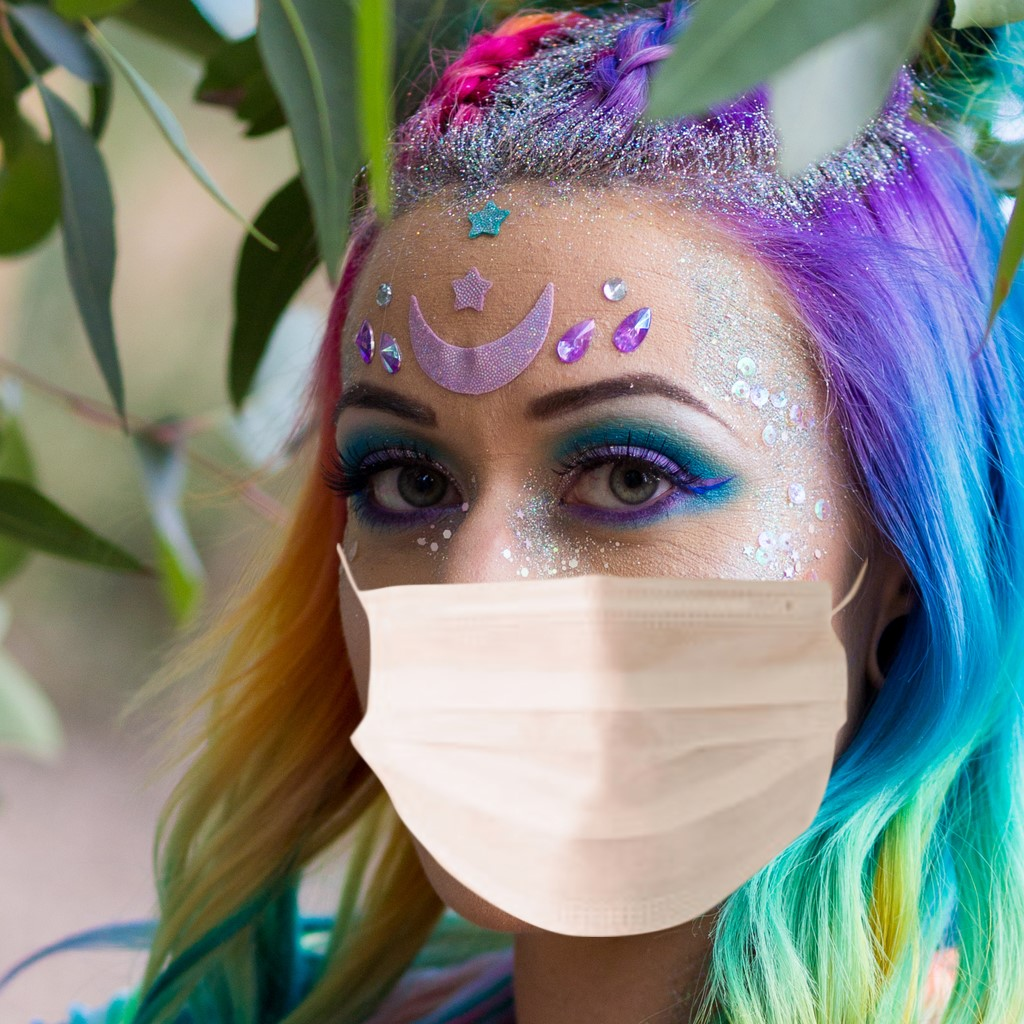con_mascara: (289, 131, 917, 964)
